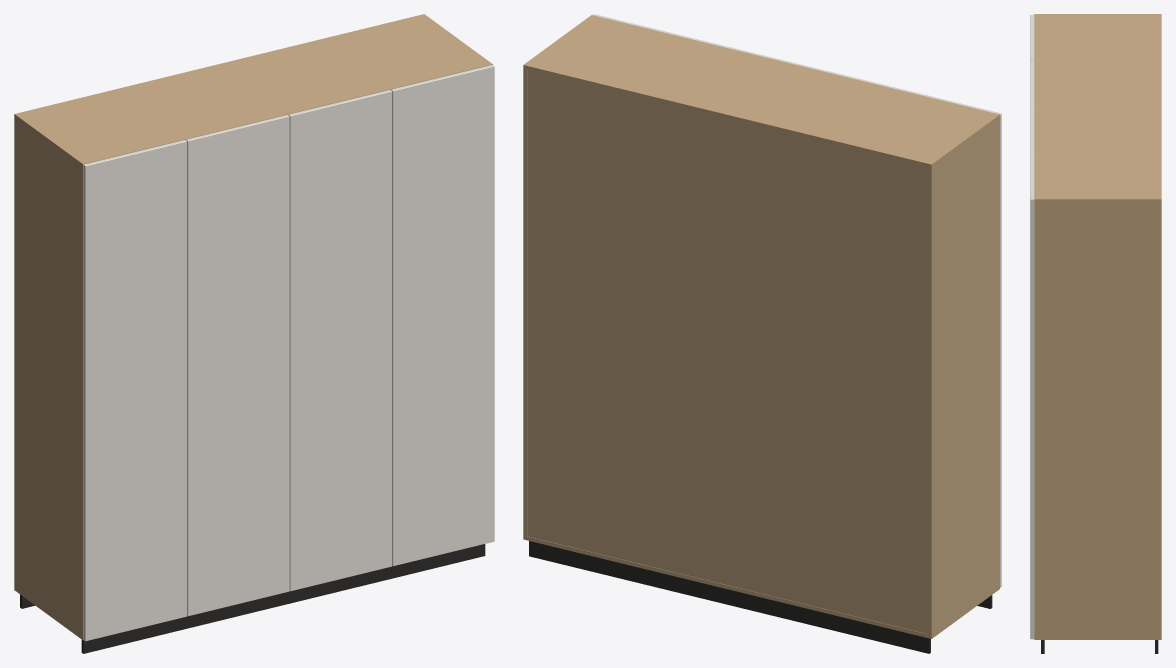
Rendered from 22_szafa_bezuchwytowa_200.glb.
The picture shows the model from 3 angles, left to right: view 1: azimuth 30°, elevation 25°; view 2: azimuth 150°, elevation 25°; view 3: azimuth 270°, elevation 25°; orthographic projection. The views are drawn at different scales.
Parts seen in each view (by area): view 1: Korpus, Front_drzwi_1, Front_drzwi_4, Front_drzwi_2, Front_drzwi_3, Cokol; view 2: Korpus, Cokol, Front_drzwi_1; view 3: Korpus, Front_drzwi_4, Front_drzwi_3, Front_drzwi_1, Front_drzwi_2.
Part boxes in pixels (left/top/right/bottom): Korpus: left=14, top=14, right=492, bottom=640; Front_drzwi_1: left=83, top=140, right=186, bottom=641; Front_drzwi_4: left=391, top=65, right=494, bottom=566; Front_drzwi_2: left=186, top=115, right=289, bottom=616; Front_drzwi_3: left=288, top=90, right=391, bottom=591; Cokol: left=20, top=544, right=485, bottom=653; Korpus: left=523, top=15, right=999, bottom=638; Cokol: left=529, top=541, right=992, bottom=653; Front_drzwi_1: left=899, top=88, right=1001, bottom=587; Korpus: left=1034, top=14, right=1161, bottom=639; Front_drzwi_4: left=1030, top=153, right=1034, bottom=639; Front_drzwi_3: left=1030, top=107, right=1034, bottom=153; Front_drzwi_1: left=1030, top=14, right=1034, bottom=60; Front_drzwi_2: left=1030, top=61, right=1034, bottom=106.
Size of the model in its own units: 2 by 2.3 by 0.598.
